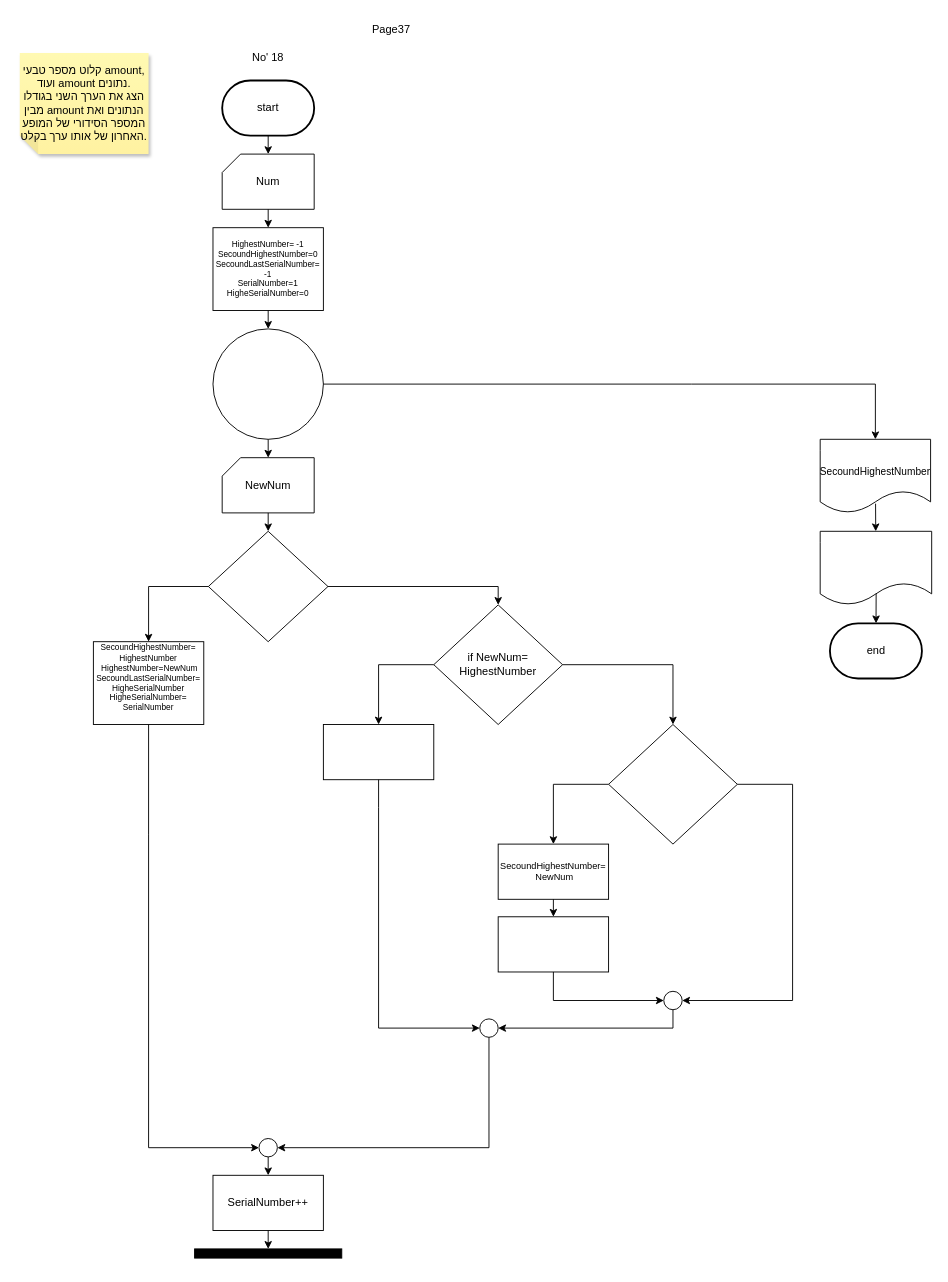
Image size: 948x1282. Some labels were removed from this diagram. Here are the shapes that lost their labels. From the top down, the centre of each, then its label:
At point 267,383: "while SerialNumber<=Num".
At point 267,586: "if NewNum>HighestNumber".
At point 875,567: "SecoundLastSerialNumber".
At point 378,752: "HigheSerialNumber= SerialNumber".
At point 672,784: "SecoundHighestNumber<= NewNum&& SerialNumber>1".
At point 553,944: "SecoundLastSerialNumber= SerialNumber".
